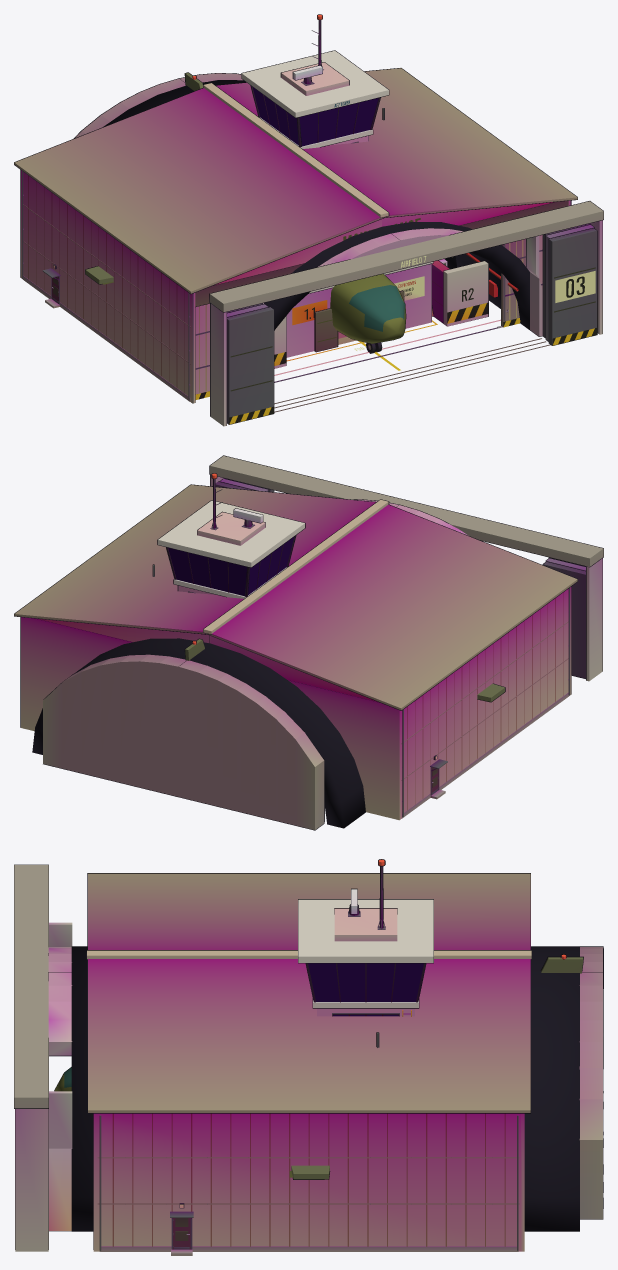
File: fps-kit-airfield7.glb
The picture shows the model from 3 angles, top to bottom: view 1: azimuth 30°, elevation 25°; view 2: azimuth 150°, elevation 25°; view 3: azimuth 270°, elevation 25°; orthographic projection. The views are drawn at different scales.
Visible parts, largest first — view 1: KIT_AIRFIELD7_Hangar, KIT_AIRFIELD7_Landmark_HAS, KIT_AIRFIELD7_Landmark_Tower, KIT_AIRFIELD7_Transport, KIT_AIRFIELD7_Igloo, KIT_AIRFIELD7_Revetment; view 2: KIT_AIRFIELD7_Hangar, KIT_AIRFIELD7_Landmark_HAS, KIT_AIRFIELD7_Landmark_Tower, KIT_AIRFIELD7_Transport; view 3: KIT_AIRFIELD7_Hangar, KIT_AIRFIELD7_Landmark_HAS, KIT_AIRFIELD7_Landmark_Tower, KIT_AIRFIELD7_Transport.
Part boxes in pixels (<box>): KIT_AIRFIELD7_Hangar: <box>14,68,577,403</box>; KIT_AIRFIELD7_Landmark_HAS: <box>73,73,603,426</box>; KIT_AIRFIELD7_Landmark_Tower: <box>241,14,389,148</box>; KIT_AIRFIELD7_Transport: <box>85,72,453,353</box>; KIT_AIRFIELD7_Igloo: <box>286,261,433,357</box>; KIT_AIRFIELD7_Revetment: <box>274,260,488,368</box>; KIT_AIRFIELD7_Hangar: <box>14,484,577,820</box>; KIT_AIRFIELD7_Landmark_HAS: <box>32,455,603,830</box>; KIT_AIRFIELD7_Landmark_Tower: <box>157,473,305,598</box>; KIT_AIRFIELD7_Transport: <box>184,638,505,702</box>; KIT_AIRFIELD7_Hangar: <box>86,873,531,1255</box>; KIT_AIRFIELD7_Landmark_HAS: <box>14,864,603,1251</box>; KIT_AIRFIELD7_Landmark_Tower: <box>298,859,433,1016</box>; KIT_AIRFIELD7_Transport: <box>54,954,583,1179</box>.
Bounding box in the file's own units: 30.04 × 17.45 × 30.12.
Materials: 1 (1 with a texture image).
